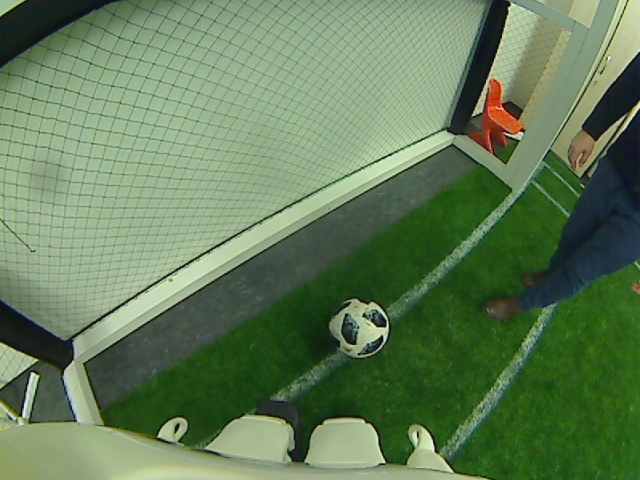ball: (328, 294, 389, 359)
